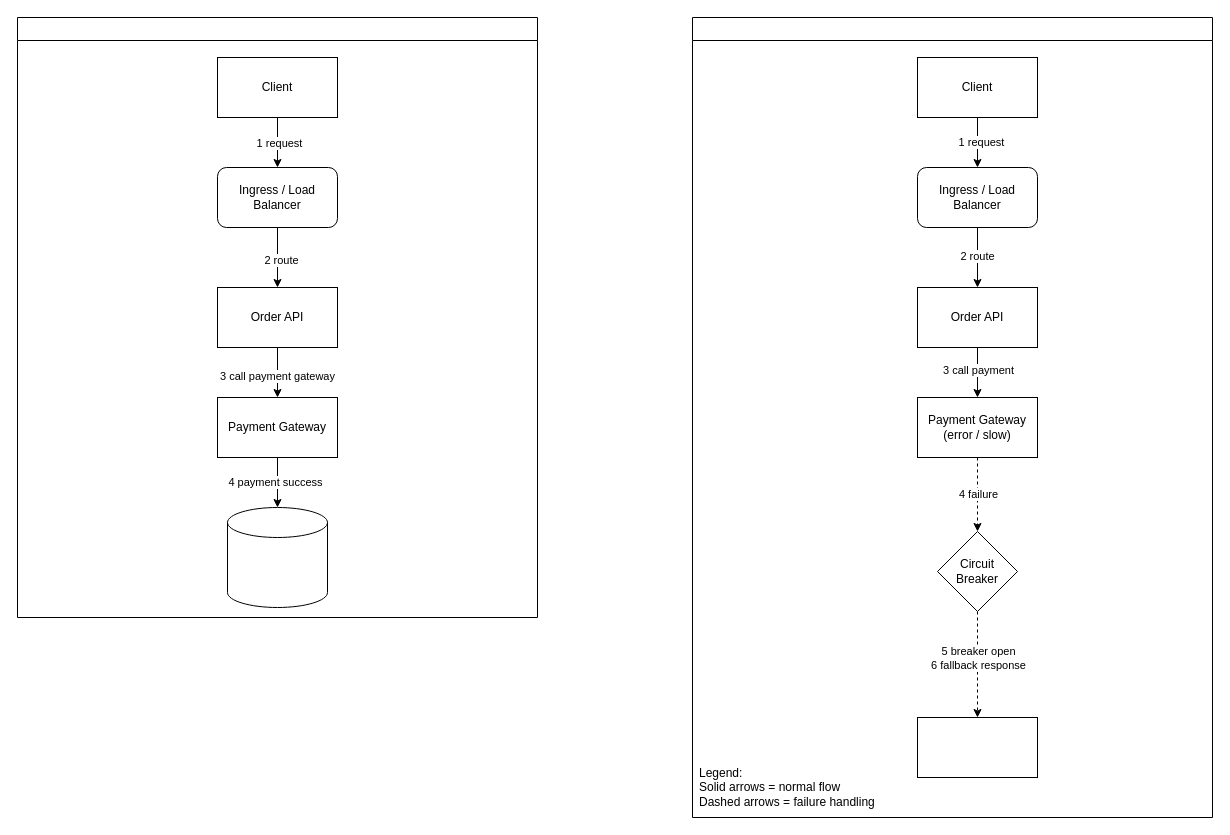
Some shapes in this 1230 by 835 pixel diagram are drawn without their labels. Each missing label, with the box of its shape:
Failure Scenario (Payment Failure): (692, 16, 1212, 818)
Fallback (pay later / fail fast): (916, 716, 1038, 778)
PostgreSQL: (226, 506, 328, 608)
Steady State (Normal Checkout): (16, 16, 538, 618)
